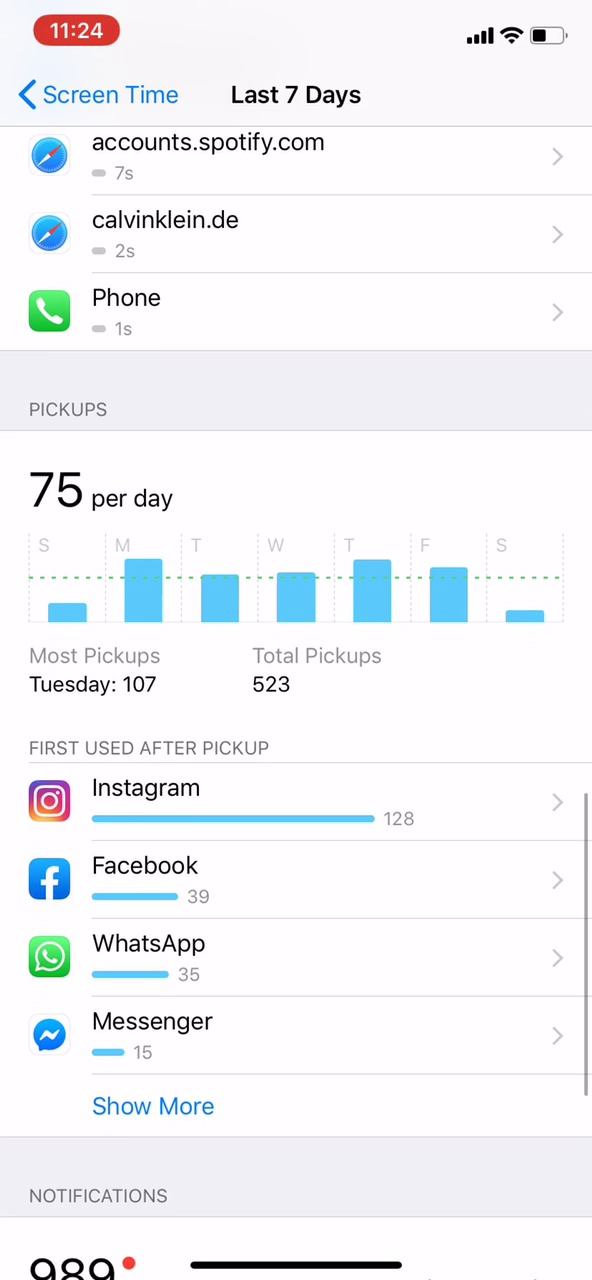pick_app: (25, 769, 443, 841), (23, 922, 247, 997), (18, 1008, 259, 1067), (25, 850, 239, 916)
pick_over: (26, 635, 434, 710)
week: (221, 71, 374, 118)
